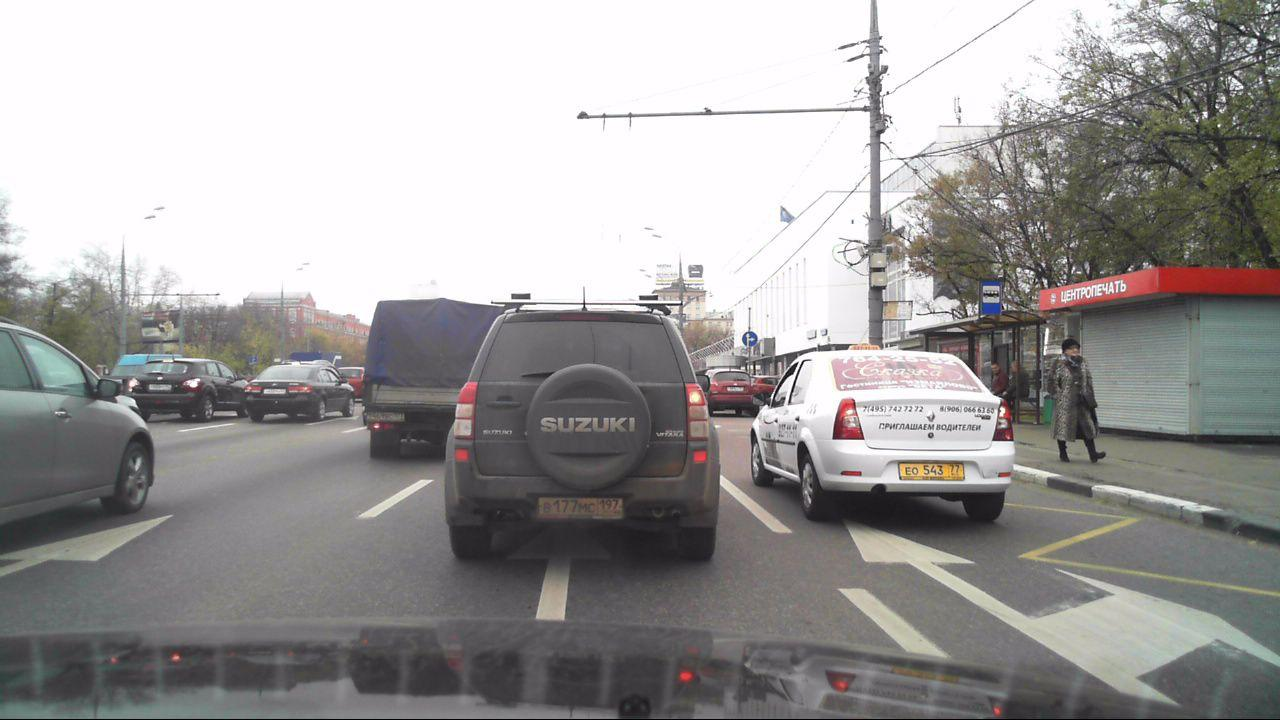road_sign: (980, 280, 1002, 315), (742, 332, 758, 347)
